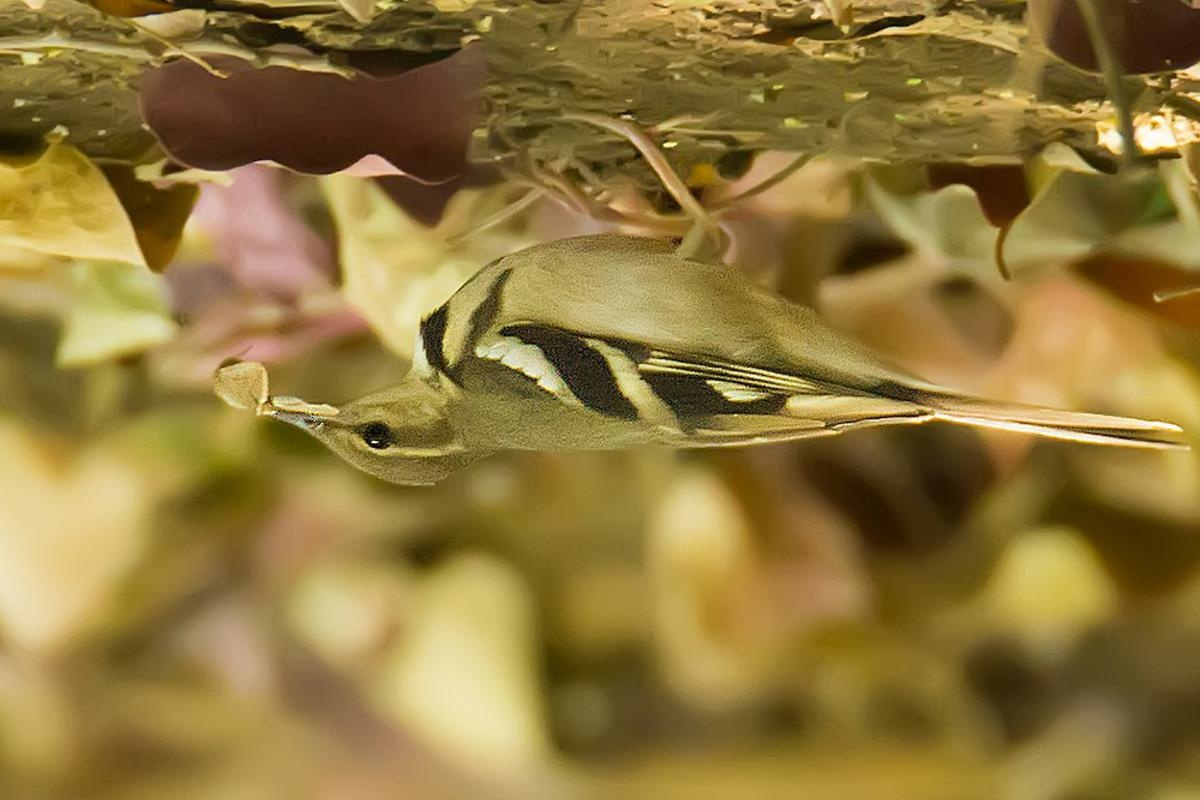wagtail: (279, 173, 1110, 502)
